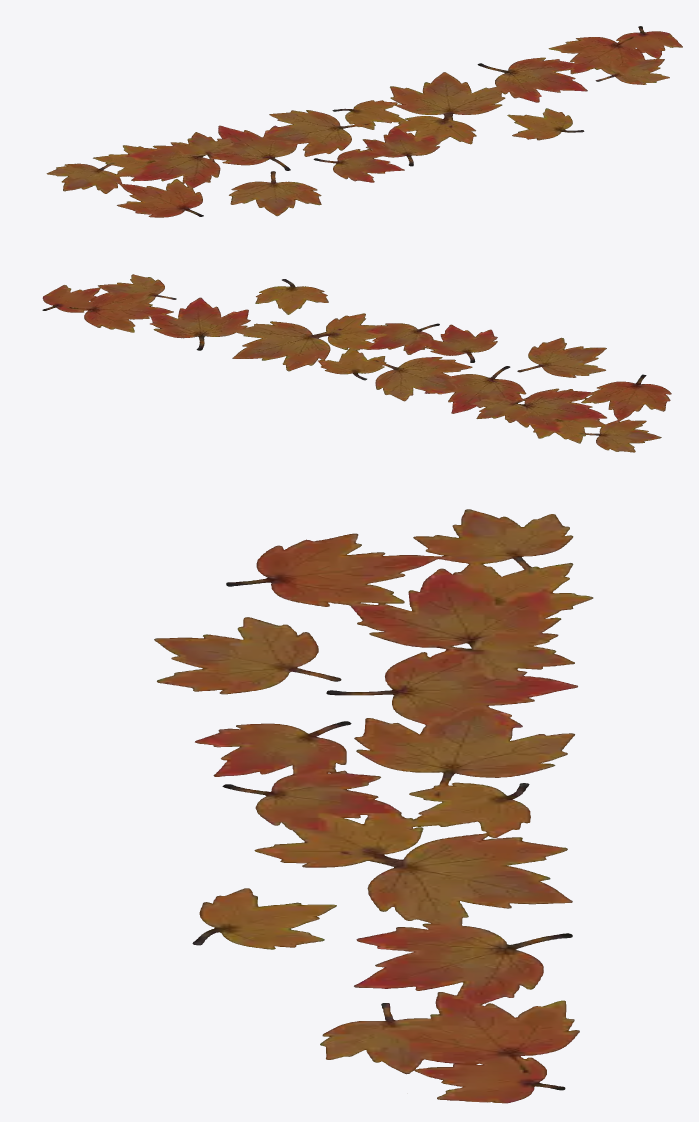
3 renders of one model, top to bottom at view 1: azimuth 30°, elevation 25°; view 2: azimuth 150°, elevation 25°; view 3: azimuth 270°, elevation 25°, orthographic. The views are drawn at different scales.
Parts seen in each view (by area): view 1: SM_ScatteredLeaves_Maple_06_LOD0; view 2: SM_ScatteredLeaves_Maple_06_LOD0; view 3: SM_ScatteredLeaves_Maple_06_LOD0.
Boxes of the visible parts, box(x1,y1,x2,y2) form: SM_ScatteredLeaves_Maple_06_LOD0: box(46, 26, 682, 217); SM_ScatteredLeaves_Maple_06_LOD0: box(42, 274, 671, 452); SM_ScatteredLeaves_Maple_06_LOD0: box(154, 509, 593, 1103).
Size of the model in its own units: 2.09 by 0 by 0.7371.
1 material, 1 textured.
